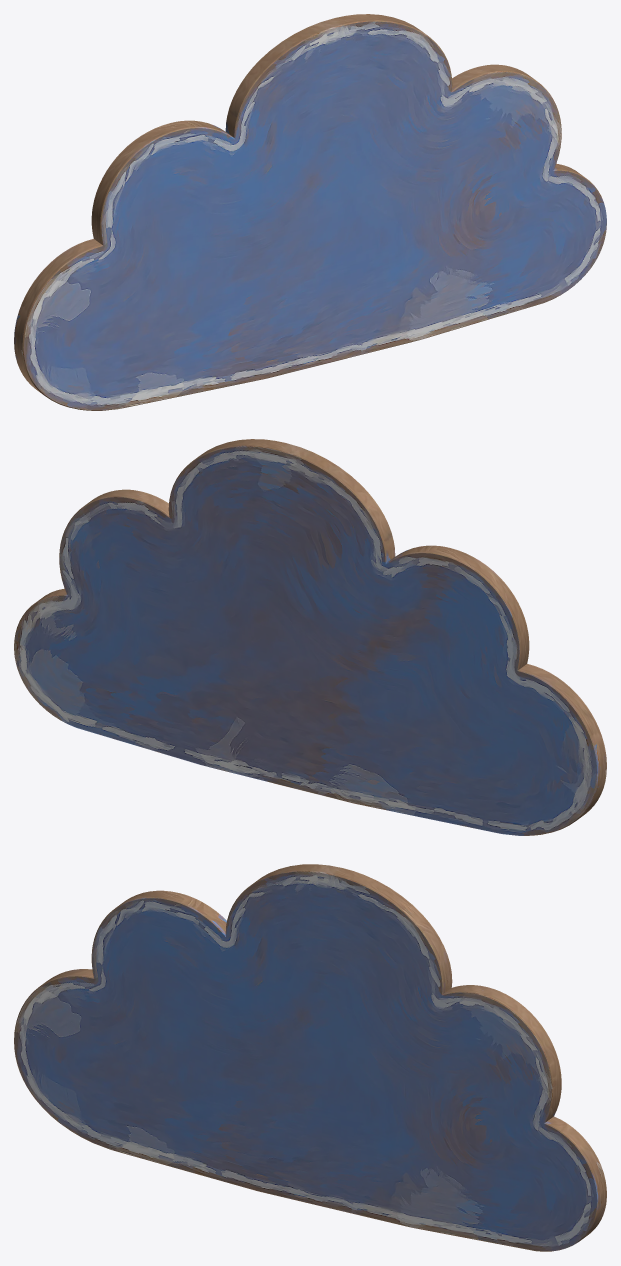
Rendered from cardboard_cloud_b.glb.
3 views of the same model, one above another, from view 1: azimuth 30°, elevation 25°; view 2: azimuth 150°, elevation 25°; view 3: azimuth 330°, elevation 25° (orthographic).
Visible parts, largest first — view 1: Object_2; view 2: Object_2; view 3: Object_2.
Boxes of the visible parts, box(x1,y1,x2,y2) form: Object_2: box(14, 14, 606, 410); Object_2: box(14, 439, 606, 835); Object_2: box(14, 864, 606, 1251).
Bounding box in the file's own units: 227 × 125 × 6.38.
Materials: 1 (1 with a texture image).
